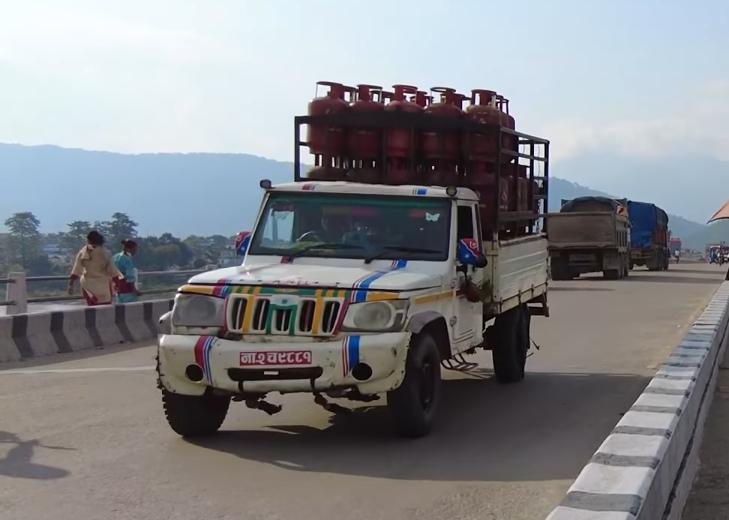transport_vehicle: (147, 112, 553, 447)
truck: (543, 181, 641, 282)
